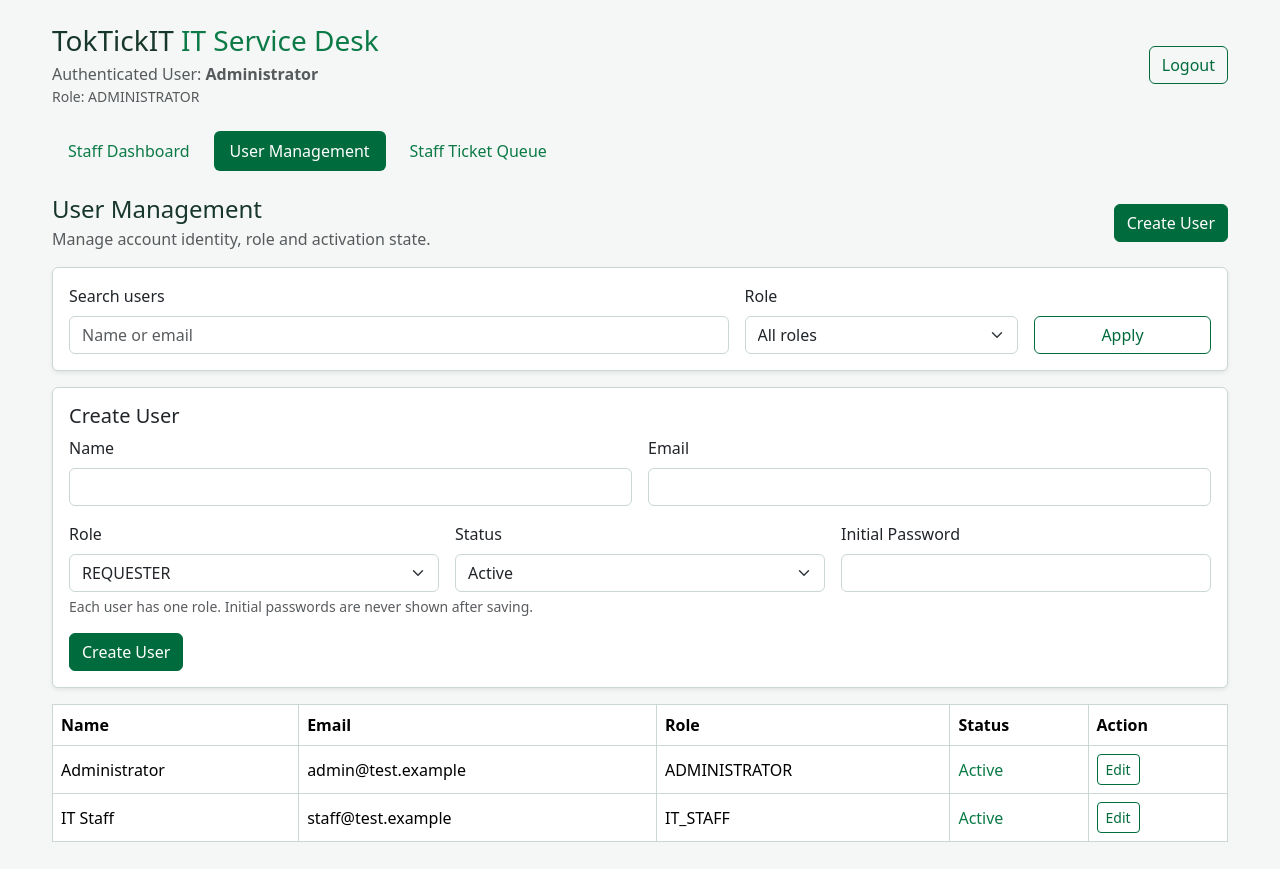
Scenario: Lab 3 role navigation and authorization states › keeps the Administrator shell when editing another user's role
This screenshot has width=1280, height=869.
Check: the heading "User Management" is shown, box [52,192,262,225]
Click the button "Edit" in the row of "IT Staff" at (1118, 818), box [1096,802,1140,833]
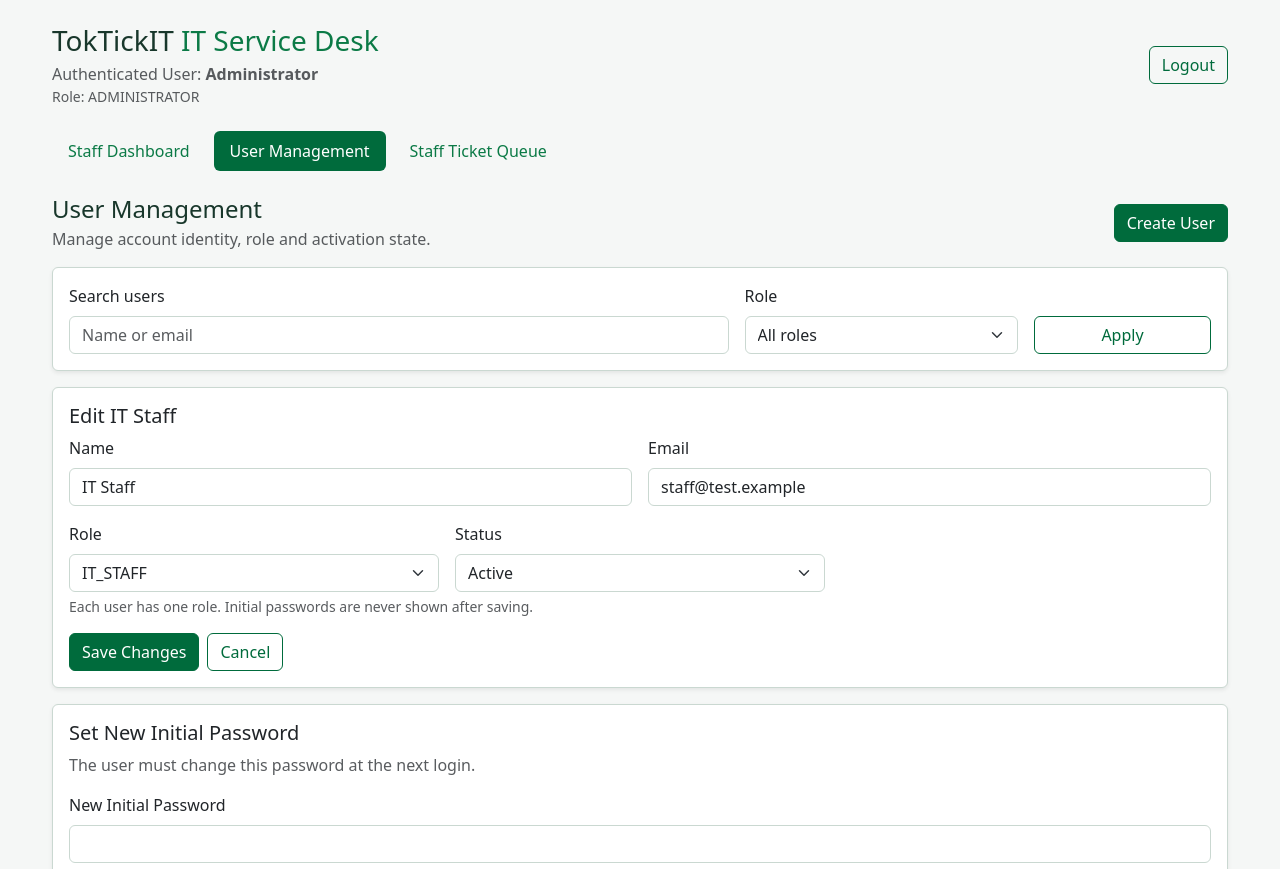
Select "REQUESTER" in the 2nd dropdown labelled "Role" at (254, 573), box [69,554,439,592]
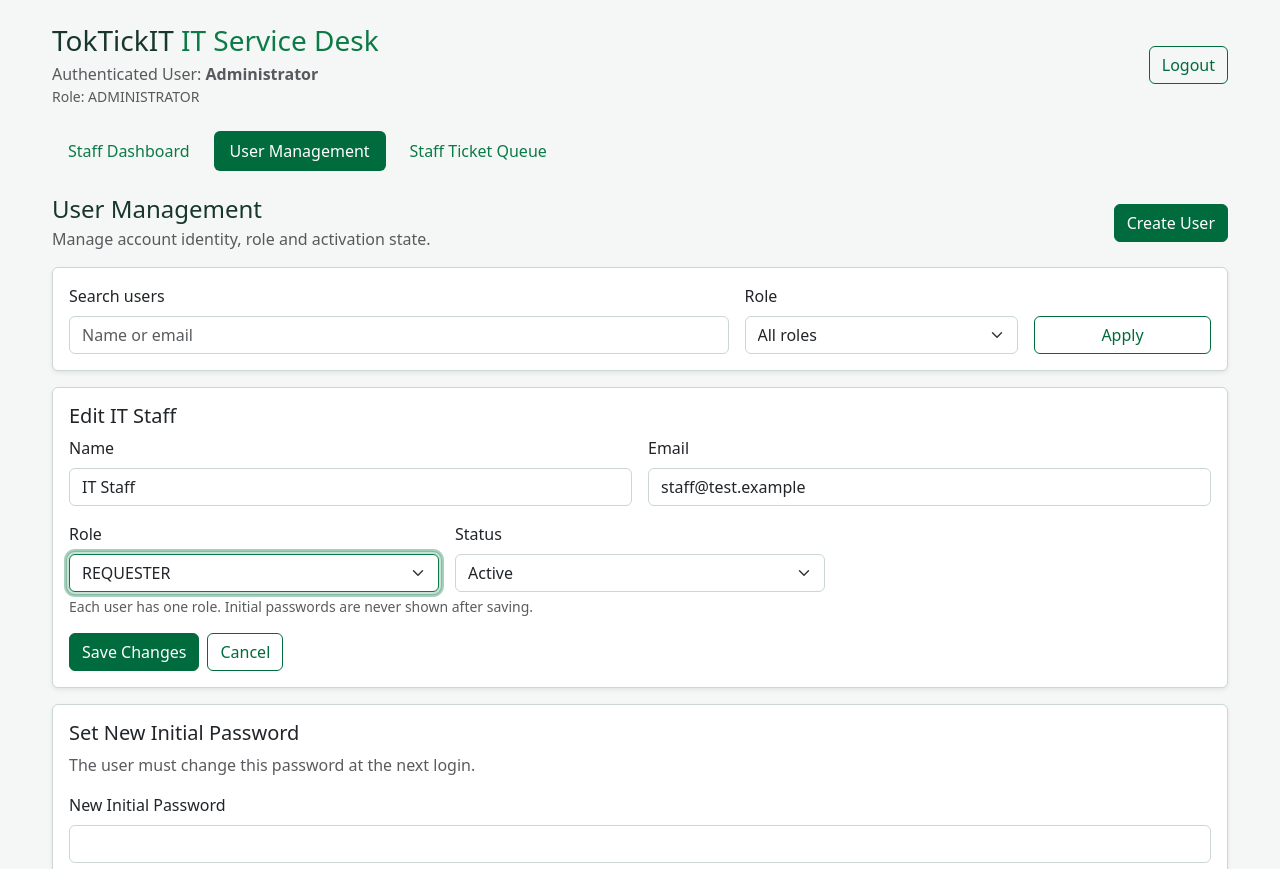
Click the button "Save Changes" at (134, 652), box [69,633,200,671]
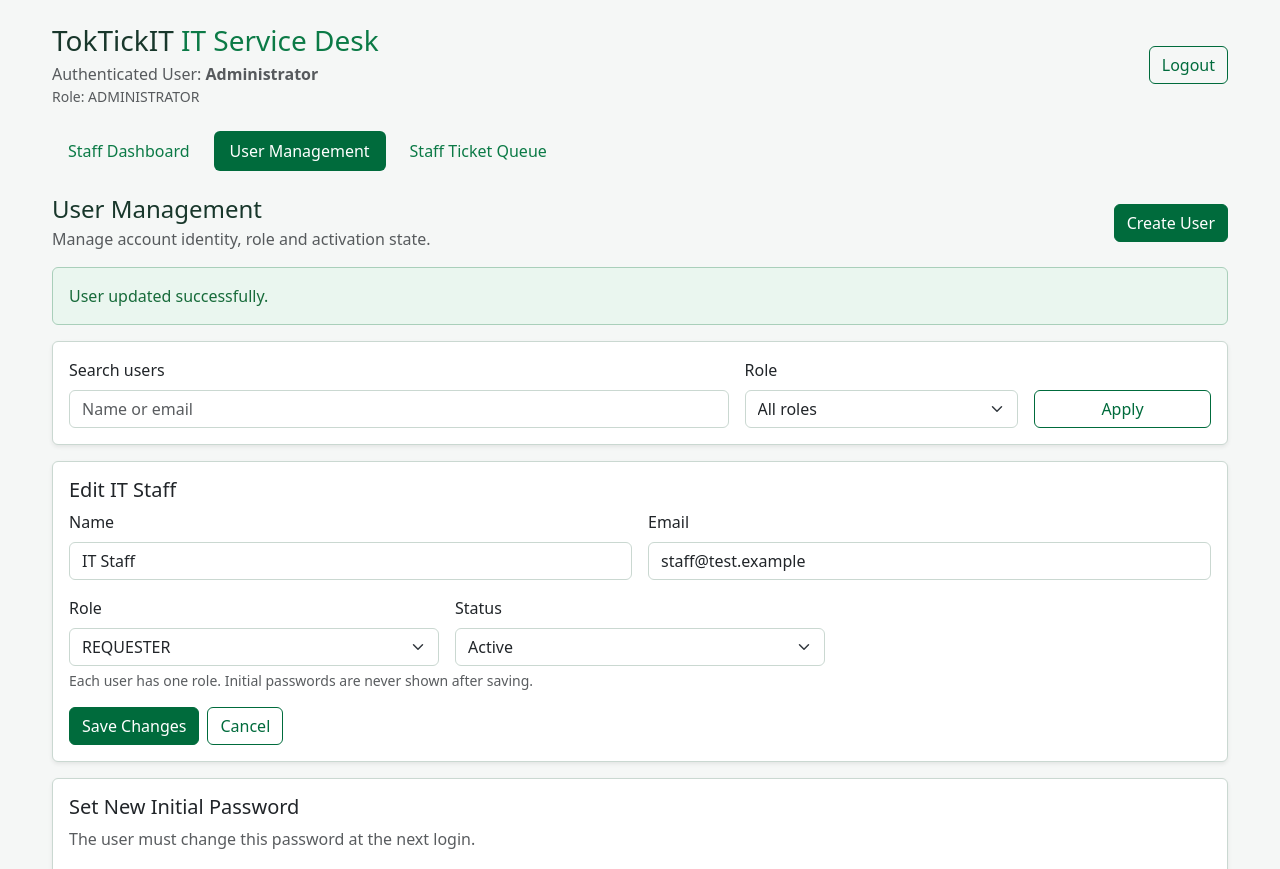
Check: the button "User Management" is shown, box [214,131,386,171]
Check: the text "User updated successfully." is shown, box [52,267,1228,325]
